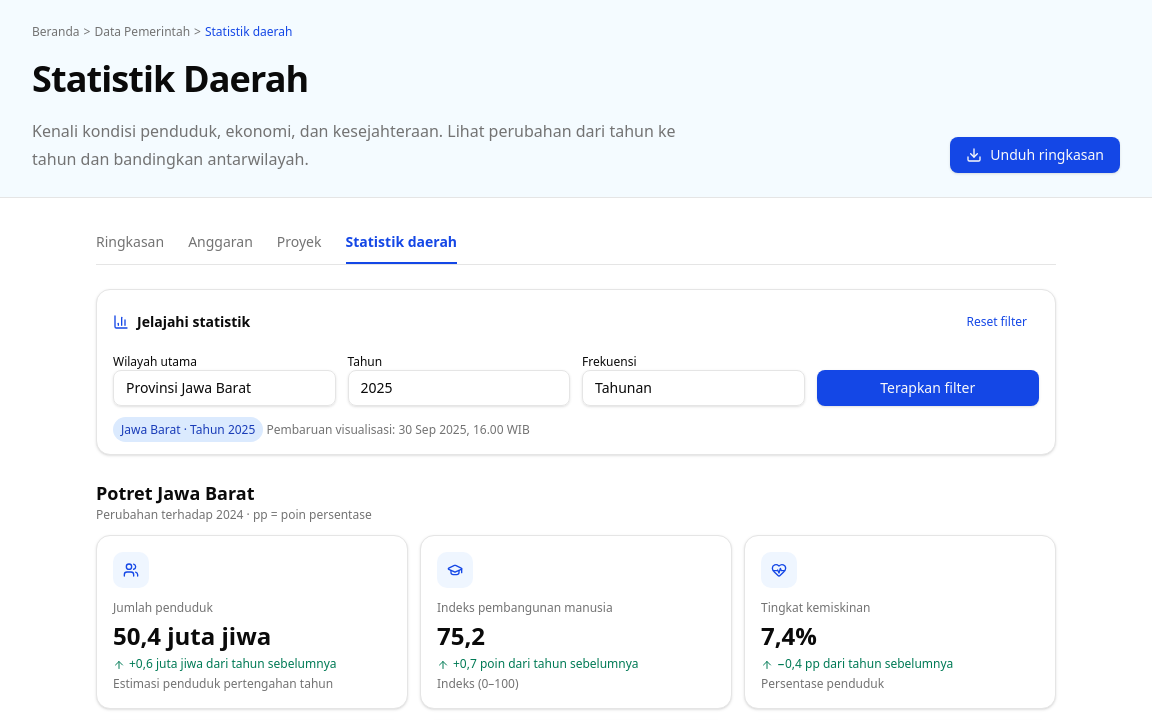
Test case: regional statistics page › keeps unavailable province/year combinations explicit instead of showing other data
Select "Provinsi Aceh" in the dropdown labelled "Wilayah utama": (224, 388) [113,370,336,406]
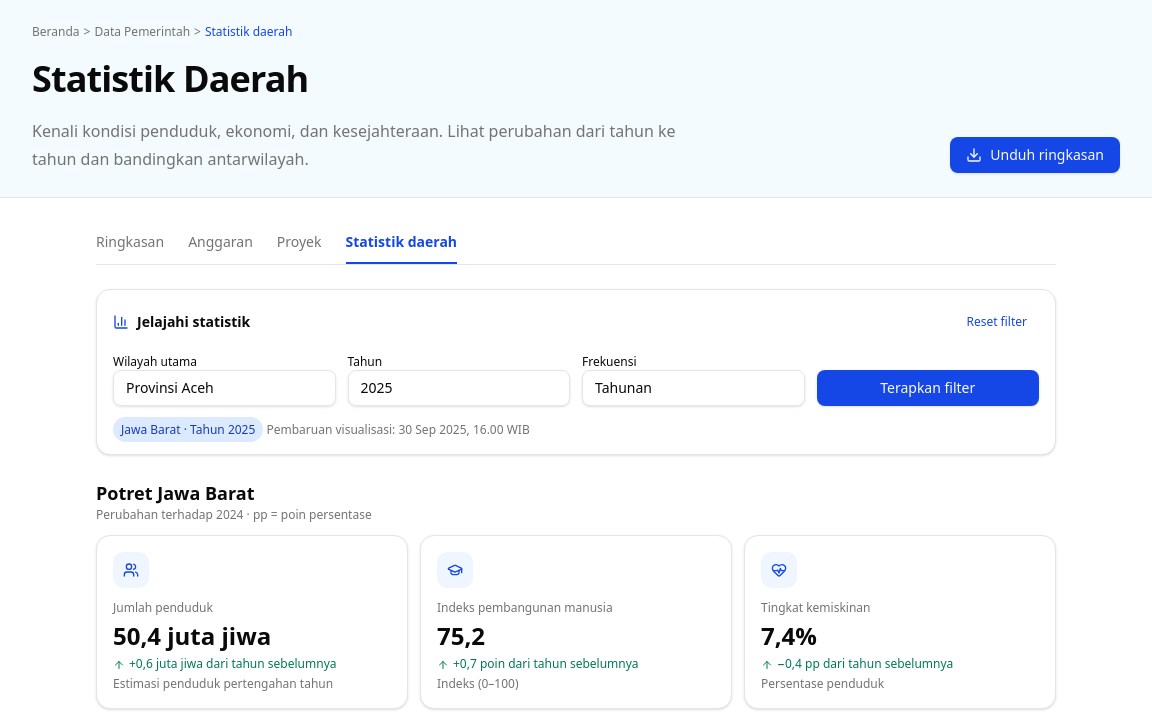
Select "2020" in the dropdown labelled "Tahun": (459, 388) [348,370,570,406]
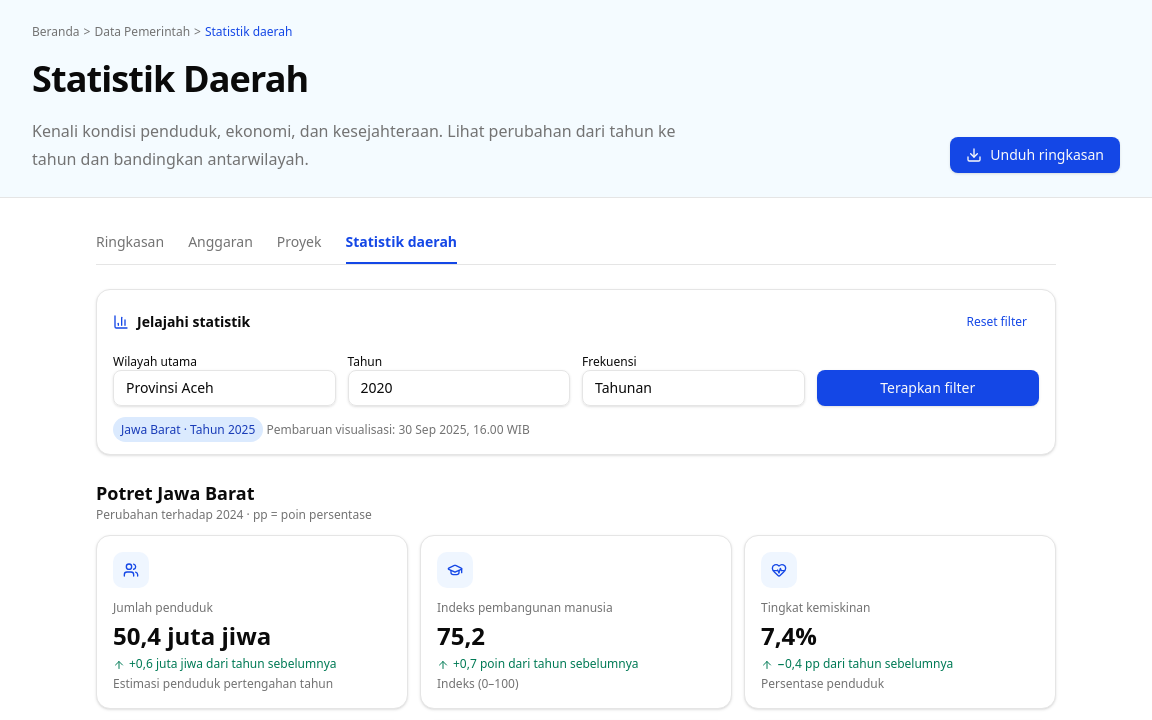
Click the button "Terapkan filter": (928, 388) [816,370,1039,406]
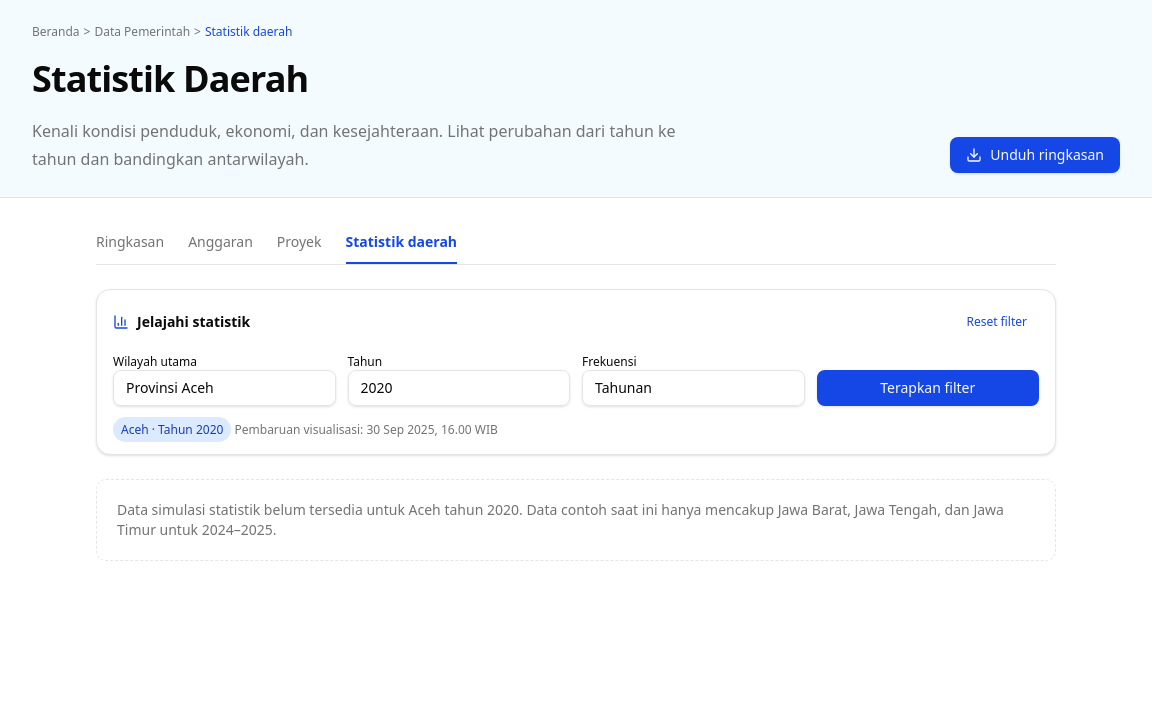
Now the heading "Potret Jawa Barat" is gone
